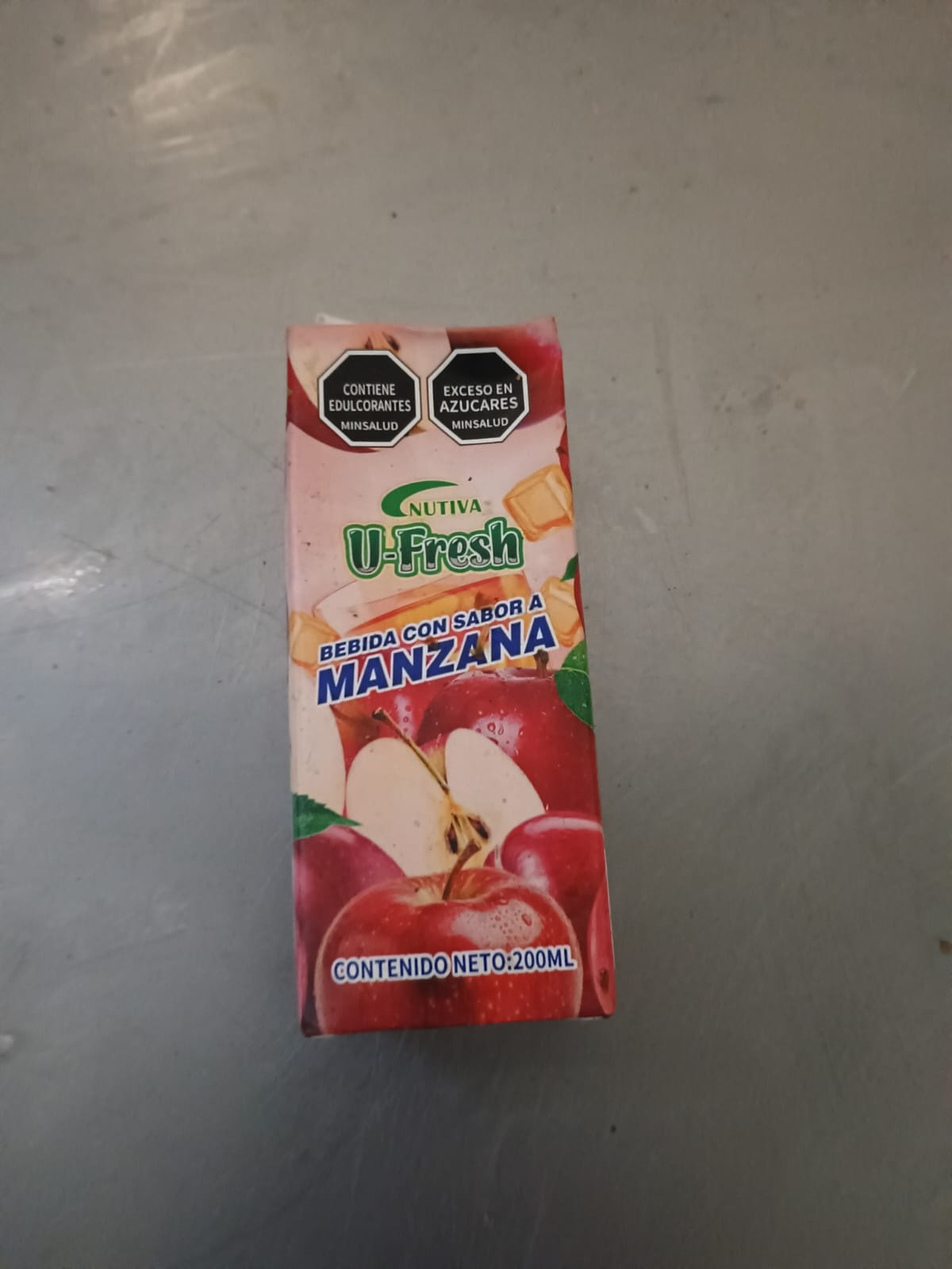Carton: (283, 324, 618, 1027)
